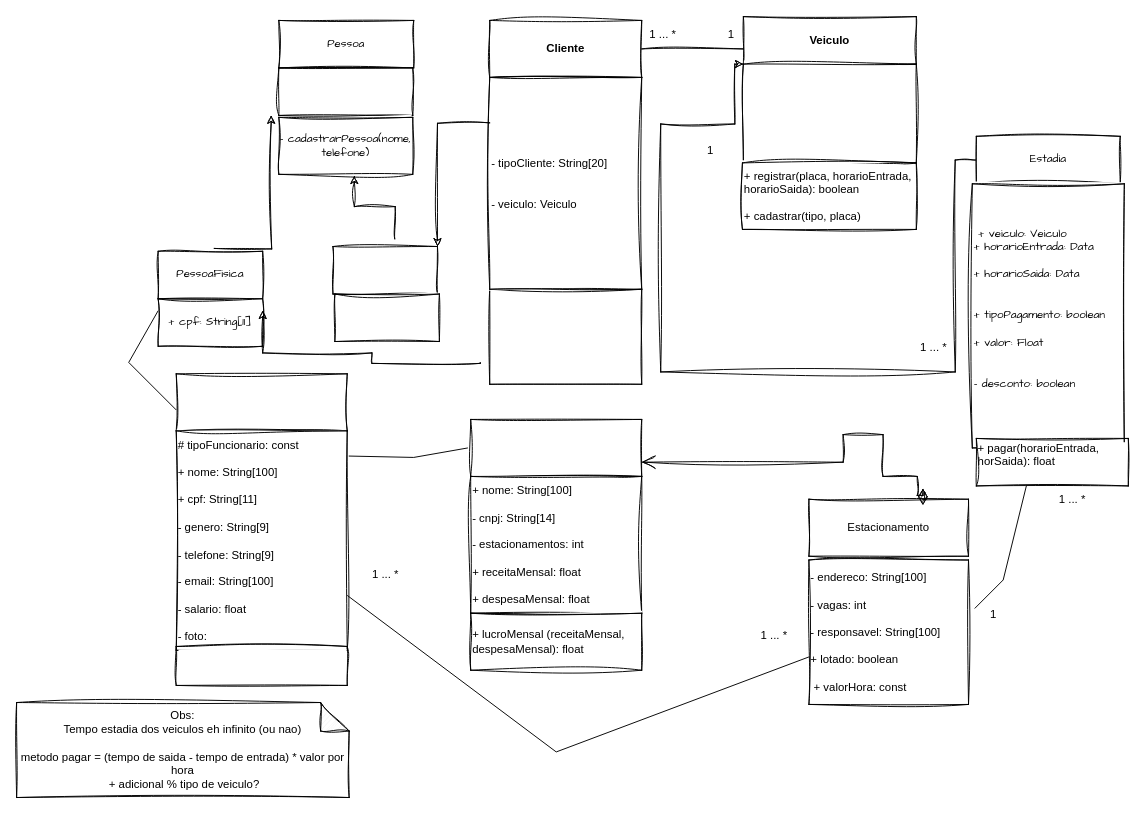
The diagram is 1146 pixels wide and 814 high, and some of its shapes have lost their labels. Here are the shapes that lost their labels. From the top down, the centre of each, then its label:
[345,91]: - nome: String[100] - telefone: String[9]
[829,113]: + placa: String[7] + tipoVeiculo: String[20] + modelo: String[20]
[384,270]: PessoaJuridica
[386,317]: + cnpj: String[14]
[565,336]: + pagar(horarioEntrada, horSaida): float + cadastrar(tipo, placa)
[261,402]: Funcionario
[556,447]: Empresa
